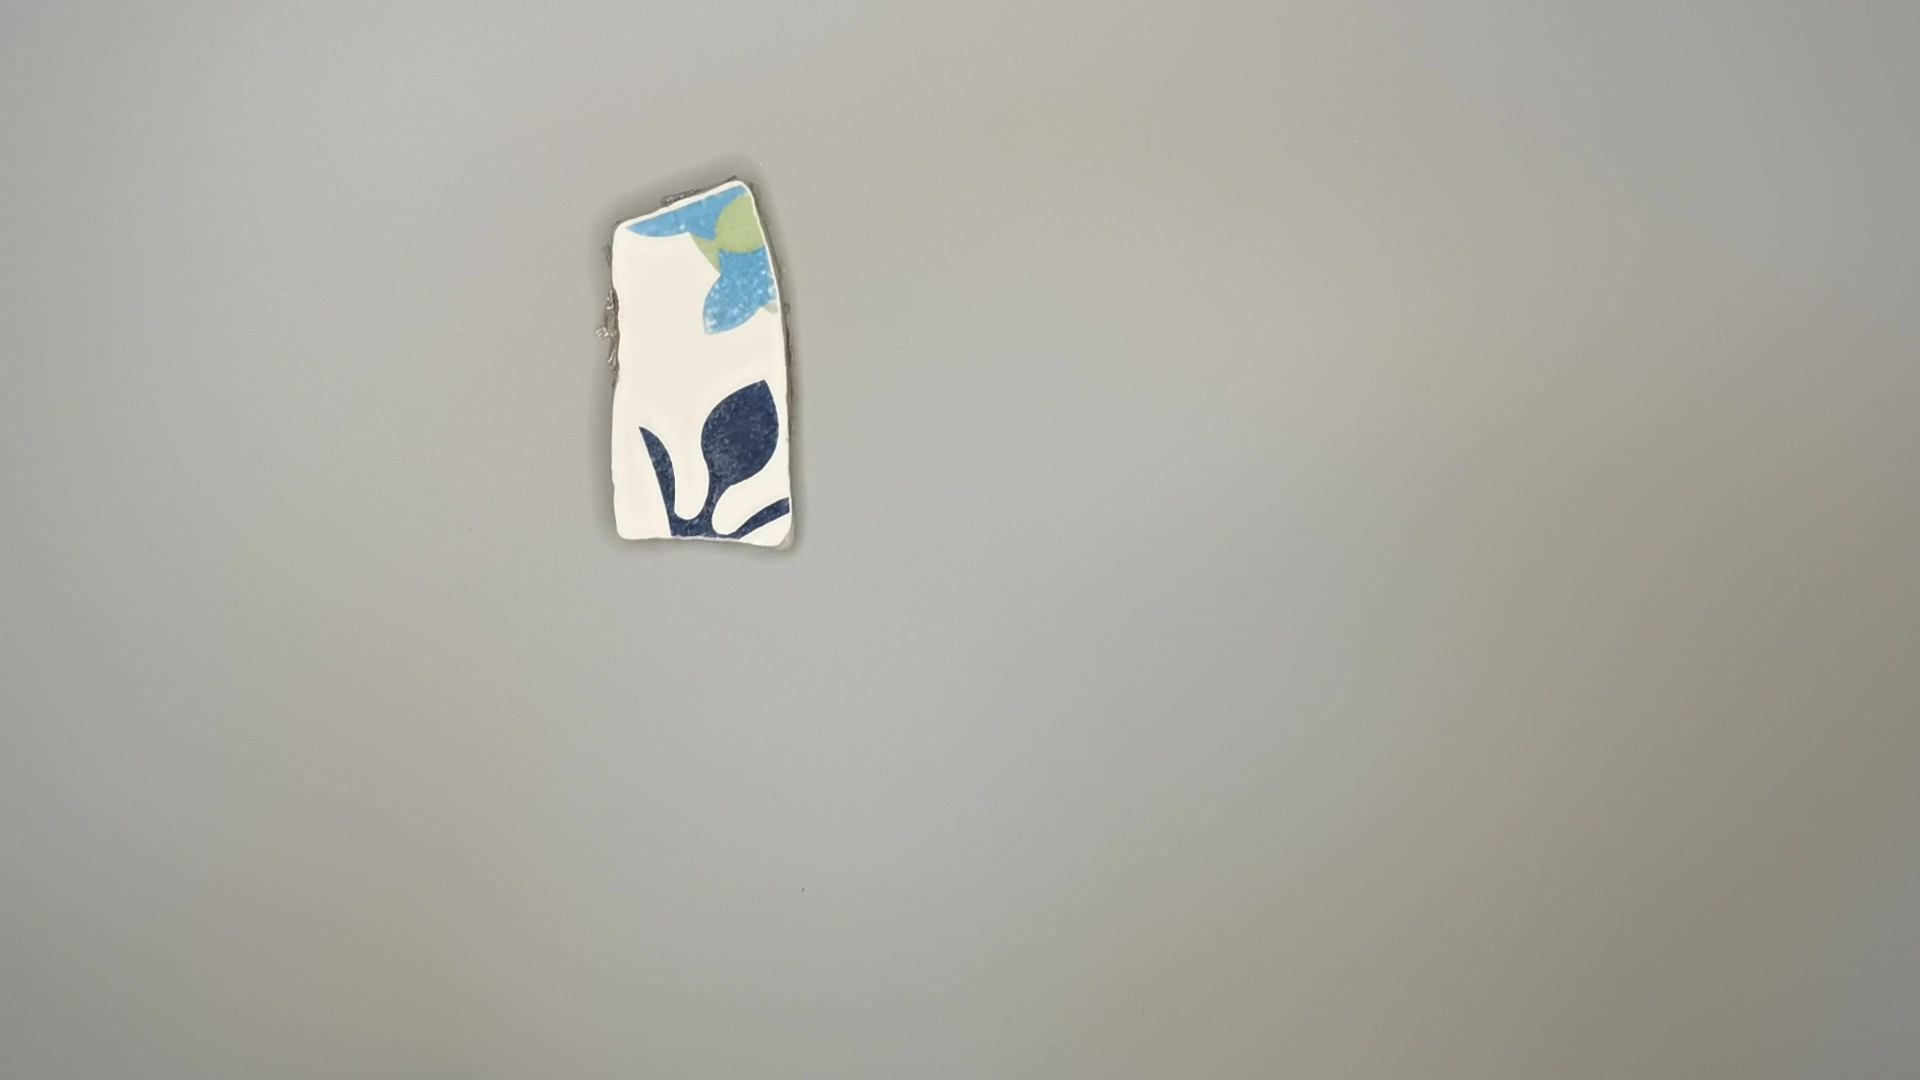ceramic: (597, 175, 804, 560)
